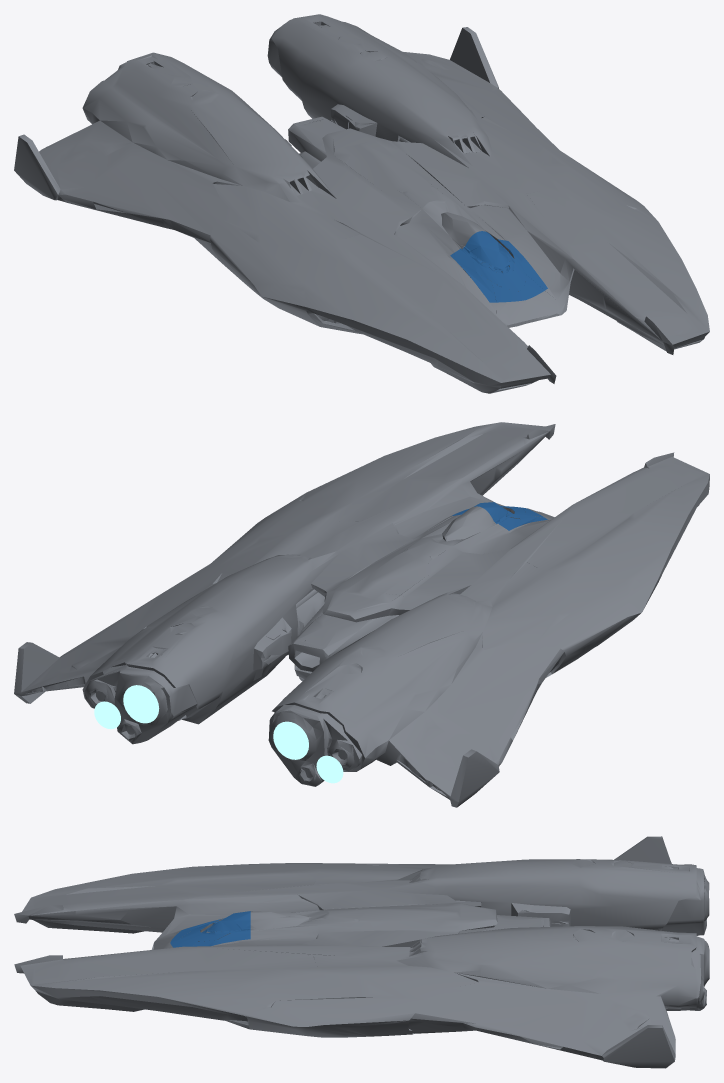
Rendered from mamba.glb.
3 views of the same model, one above another, from view 1: azimuth 30°, elevation 25°; view 2: azimuth 150°, elevation 25°; view 3: azimuth 270°, elevation 25° (orthographic). The views are drawn at different scales.
Visible parts, largest first — view 1: mamba; view 2: mamba; view 3: mamba.
Boxes of the visible parts, box(x1,y1,x2,y2) form: mamba: box(14, 14, 709, 393); mamba: box(14, 422, 709, 807); mamba: box(14, 836, 709, 1068).
Size of the model in its own units: 51.54 by 11.38 by 79.28.
